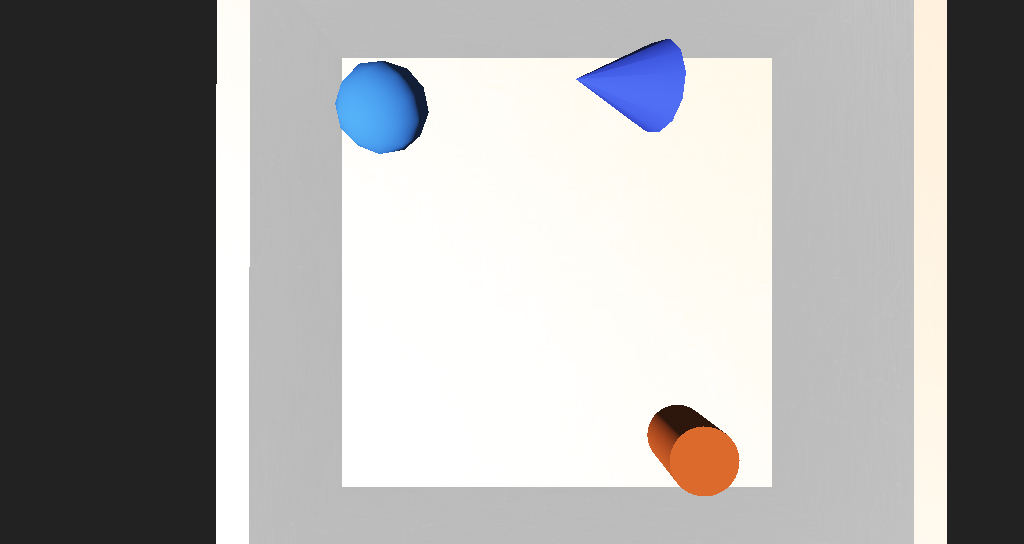cone: (566, 334, 620, 372)
cylinder: (509, 150, 596, 203)
sphere: (350, 169, 418, 212)
